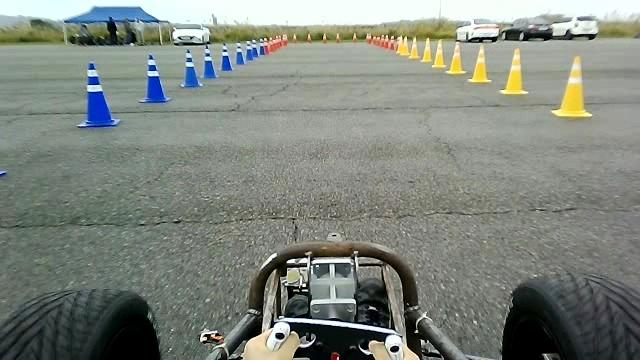blue cone: (76, 61, 120, 127), (138, 54, 172, 103), (181, 48, 204, 88), (200, 43, 218, 78), (220, 42, 233, 71), (235, 41, 246, 65)
yellow cone: (550, 54, 592, 116), (499, 47, 529, 94), (468, 44, 492, 83), (444, 40, 467, 74), (431, 38, 446, 68), (420, 36, 432, 62), (408, 36, 420, 59)
